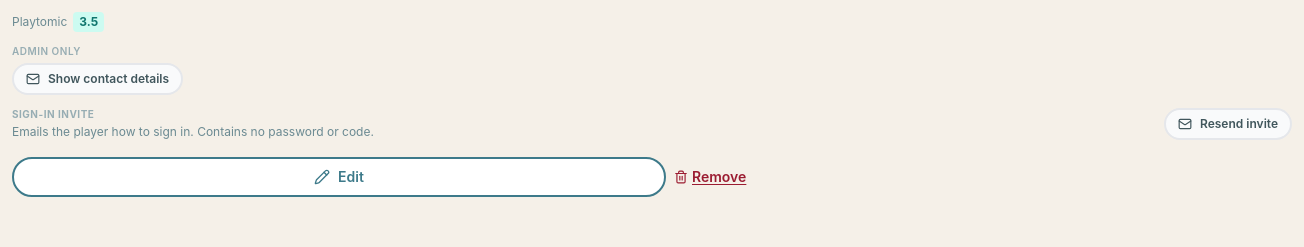
PlayerProfile — contact details reveal › reveals email/phone after tapping the button, and Hide clears them
Click the button "Show contact details": (98, 79) [12,63,183,95]
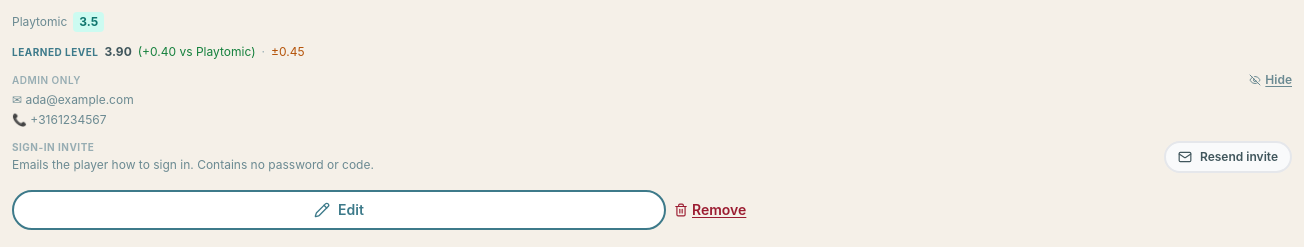
Check: the text "✉ ada@example.com" is shown, box [12,92,134,107]
Check: the text "📞 +3161234567" is shown, box [12,112,107,127]
Click the button "Hide": (1271, 80) [1249,72,1292,88]
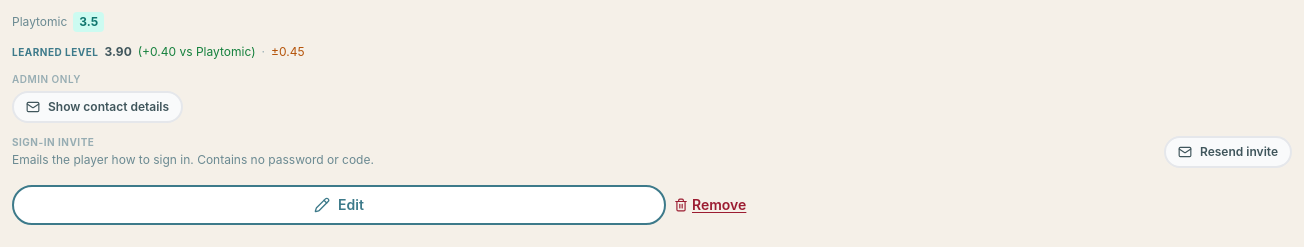
Check: the text "ada@example.com" is gone
Check: the button "Show contact details" is shown, box [12,91,183,123]
